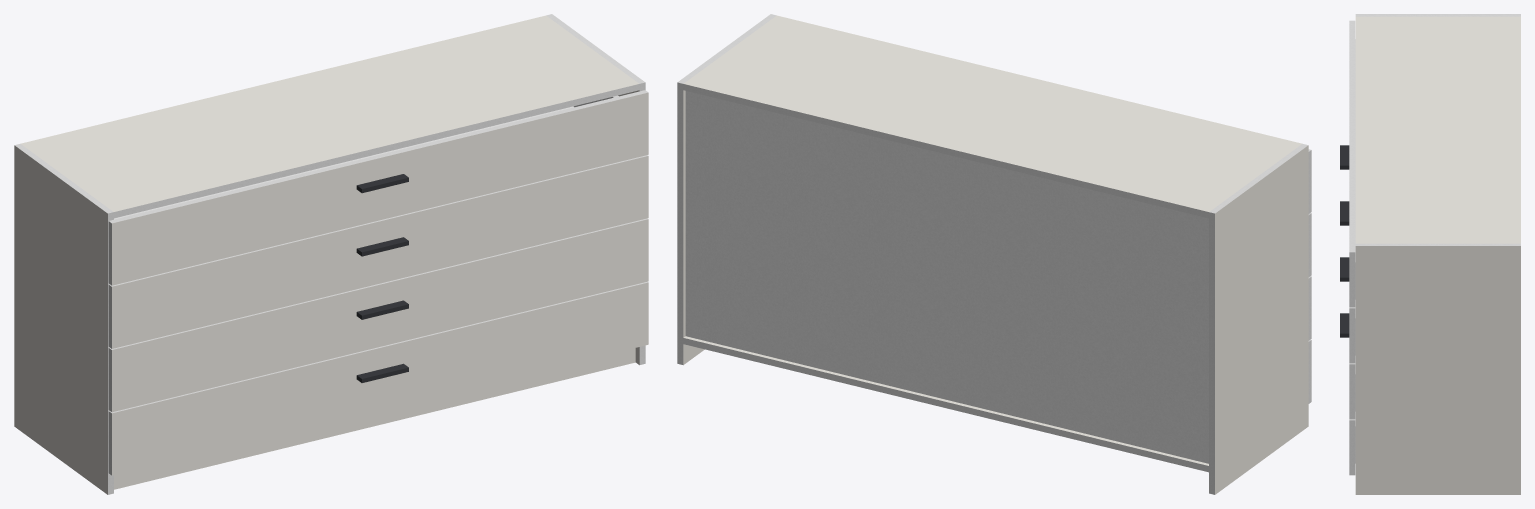
File: LIT-DRS-wide.glb
The picture shows the model from 3 angles, left to right: view 1: azimuth 30°, elevation 25°; view 2: azimuth 150°, elevation 25°; view 3: azimuth 270°, elevation 25°; orthographic projection. The views are drawn at different scales.
Visible parts, largest first — view 1: top:pbr, d3-front:pbr, d1-front:pbr, d4-front:pbr, d2-front:pbr, side-l:pbr, plinth:pbr, top:sheet:eyJtIjoibWRmIiwic2lkZSI6ImVkZ2UtbG9uZyIsInNlZWQiOj, d4-front:sheet:eyJtIjoibWRmIiwic2lkZSI6ImVkZ2UtbG9uZyIsInNlZ, pull, d2-front:sheet:eyJtIjoibWRmIiwic2lkZSI6ImVkZ2UtbG9uZyIsInNlZ, d3-front:sheet:eyJtIjoibWRmIiwic2lkZSI6ImVkZ2UtbG9uZyIsInNlZ (+2 smaller); view 2: back:sheet:eyJtIjoibWRmIiwic2lkZSI6ImZhY2UiLCJzZWVkIjo0LCJ0a, top:pbr, side-l:pbr, top:sheet:eyJtIjoibWRmIiwic2lkZSI6ImVkZ2UtbG9uZyIsInNlZWQiOj, bottom:sheet:eyJtIjoibWRmIiwic2lkZSI6ImVkZ2UtbG9uZyIsInNlZWQ, side-r:sheet:eyJtIjoibWRmIiwic2lkZSI6ImVkZ2UtbG9uZyIsInNlZWQ, side-l:sheet:eyJtIjoibWRmIiwic2lkZSI6ImVkZ2UtbG9uZyIsInNlZWQ, bottom:pbr, side-r:pbr; view 3: side-r:pbr, top:pbr, d4-front:sheet:eyJtIjoibWRmIiwic2lkZSI6ImVkZ2UtbG9uZyIsInNlZ, pull, side-l:sheet:eyJtIjoibWRmIiwic2lkZSI6ImVkZ2UtZW5kIiwic2VlZCI, side-r:sheet:eyJtIjoibWRmIiwic2lkZSI6ImVkZ2UtZW5kIiwic2VlZCI, d1-front:sheet:eyJtIjoibWRmIiwic2lkZSI6ImVkZ2UtZW5kIiwic2VlZ, d2-front:sheet:eyJtIjoibWRmIiwic2lkZSI6ImVkZ2UtZW5kIiwic2VlZ, d3-front:sheet:eyJtIjoibWRmIiwic2lkZSI6ImVkZ2UtZW5kIiwic2VlZ, d4-front:sheet:eyJtIjoibWRmIiwic2lkZSI6ImVkZ2UtZW5kIiwic2VlZ, d4-box-front:sheet:eyJtIjoibWRmIiwic2lkZSI6ImVkZ2UtbG9uZyIsI.
Part boxes in pixels (box(x1,y1,x2,y2)): top:pbr: box(21, 15, 638, 211); d3-front:pbr: box(112, 156, 648, 348); d1-front:pbr: box(112, 282, 648, 475); d4-front:pbr: box(112, 92, 648, 285); d2-front:pbr: box(112, 219, 648, 412); side-l:pbr: box(14, 145, 107, 494); plinth:pbr: box(114, 348, 635, 489); top:sheet:eyJtIjoibWRmIiwic2lkZSI6ImVkZ2UtbG9uZyIsInNlZWQiOj: box(114, 84, 639, 218); d4-front:sheet:eyJtIjoibWRmIiwic2lkZSI6ImVkZ2UtbG9uZyIsInNlZ: box(109, 90, 648, 223); pull: box(356, 174, 408, 382); d2-front:sheet:eyJtIjoibWRmIiwic2lkZSI6ImVkZ2UtbG9uZyIsInNlZ: box(109, 218, 648, 349); d3-front:sheet:eyJtIjoibWRmIiwic2lkZSI6ImVkZ2UtbG9uZyIsInNlZ: box(109, 155, 648, 286); back:sheet:eyJtIjoibWRmIiwic2lkZSI6ImZhY2UiLCJzZWVkIjo0LCJ0a: box(685, 91, 1208, 463); top:pbr: box(684, 15, 1301, 211); side-l:pbr: box(1215, 145, 1308, 494); top:sheet:eyJtIjoibWRmIiwic2lkZSI6ImVkZ2UtbG9uZyIsInNlZWQiOj: box(683, 84, 1208, 218); bottom:sheet:eyJtIjoibWRmIiwic2lkZSI6ImVkZ2UtbG9uZyIsInNlZWQ: box(683, 338, 1208, 472); side-r:sheet:eyJtIjoibWRmIiwic2lkZSI6ImVkZ2UtbG9uZyIsInNlZWQ: box(677, 82, 683, 364); side-l:sheet:eyJtIjoibWRmIiwic2lkZSI6ImVkZ2UtbG9uZyIsInNlZWQ: box(1209, 212, 1214, 494); bottom:pbr: box(683, 336, 1208, 465); side-r:pbr: box(683, 90, 704, 364); side-r:pbr: box(1355, 246, 1520, 494); top:pbr: box(1355, 16, 1520, 243); d4-front:sheet:eyJtIjoibWRmIiwic2lkZSI6ImVkZ2UtbG9uZyIsInNlZ: box(1349, 20, 1355, 252); pull: box(1340, 145, 1349, 337); side-l:sheet:eyJtIjoibWRmIiwic2lkZSI6ImVkZ2UtZW5kIiwic2VlZCI: box(1355, 14, 1520, 16); side-r:sheet:eyJtIjoibWRmIiwic2lkZSI6ImVkZ2UtZW5kIiwic2VlZCI: box(1355, 243, 1520, 245); d1-front:sheet:eyJtIjoibWRmIiwic2lkZSI6ImVkZ2UtZW5kIiwic2VlZ: box(1349, 420, 1355, 475); d2-front:sheet:eyJtIjoibWRmIiwic2lkZSI6ImVkZ2UtZW5kIiwic2VlZ: box(1349, 364, 1355, 419); d3-front:sheet:eyJtIjoibWRmIiwic2lkZSI6ImVkZ2UtZW5kIiwic2VlZ: box(1349, 308, 1355, 363); d4-front:sheet:eyJtIjoibWRmIiwic2lkZSI6ImVkZ2UtZW5kIiwic2VlZ: box(1349, 252, 1355, 307); d4-box-front:sheet:eyJtIjoibWRmIiwic2lkZSI6ImVkZ2UtbG9uZyIsI: box(1355, 41, 1355, 259).
Bounding box in the file's own units: 1.6 × 0.8 × 0.527.
Materials: 91 (81 with a texture image).
